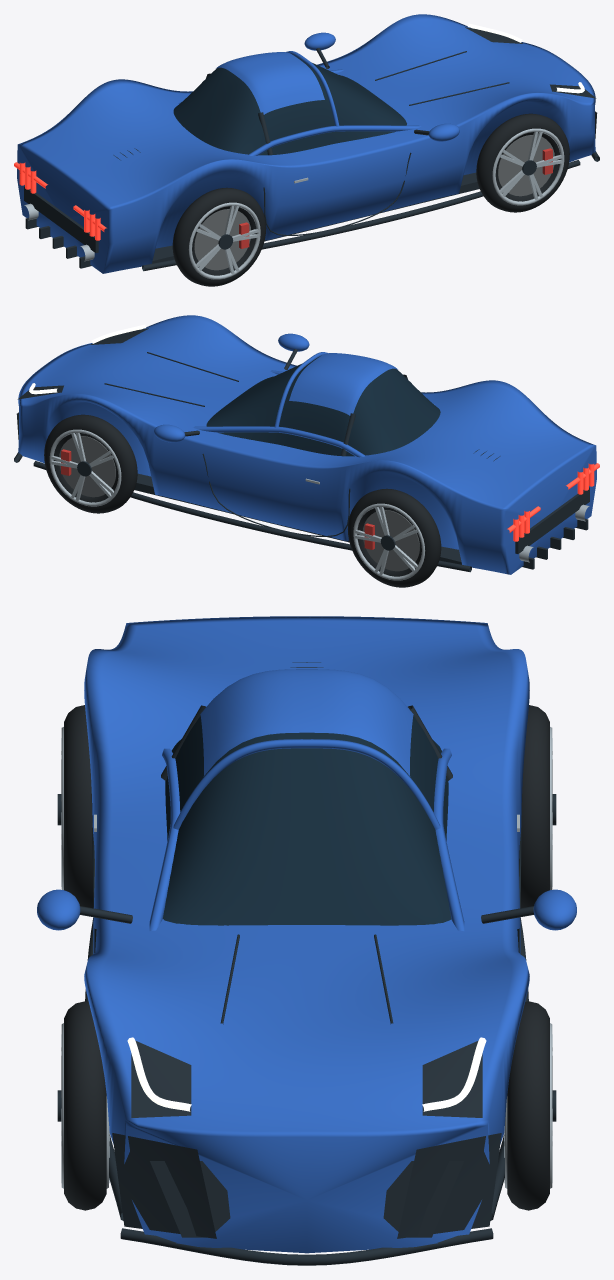
Rendered from car13.glb.
3 views of the same model, one above another, from view 1: azimuth 30°, elevation 25°; view 2: azimuth 150°, elevation 25°; view 3: azimuth 270°, elevation 25° (orthographic). The views are drawn at different scales.
Parts seen in each view (by area): view 1: continuous-sculpted-body, CAR13, curved-windows, roof-panel; view 2: continuous-sculpted-body, CAR13, curved-windows, roof-panel; view 3: continuous-sculpted-body, CAR13, curved-windows, roof-panel.
Boxes of the visible parts, <box> form: continuous-sculpted-body: <box>17,14,595,273</box>; CAR13: <box>14,23,599,286</box>; curved-windows: <box>173,55,406,155</box>; roof-panel: <box>216,52,324,114</box>; continuous-sculpted-body: <box>18,315,596,574</box>; CAR13: <box>14,324,599,587</box>; curved-windows: <box>206,356,440,456</box>; roof-panel: <box>289,353,397,415</box>; continuous-sculpted-body: <box>84,616,529,1253</box>; CAR13: <box>37,662,576,1265</box>; curved-windows: <box>162,716,451,925</box>; roof-panel: <box>200,669,413,776</box>.
Size of the model in its own units: 4.94 by 1.42 by 2.22.
